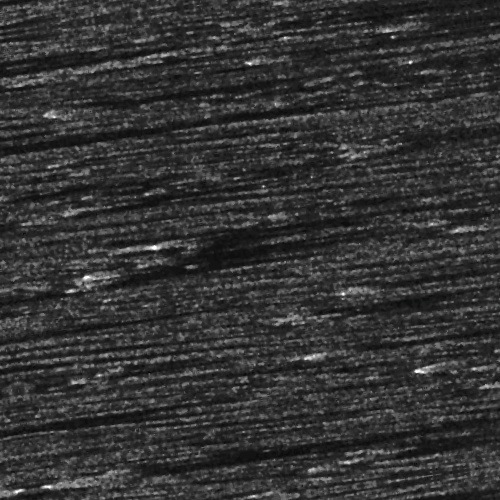object: (11, 444, 126, 459), (109, 225, 202, 236), (260, 468, 343, 479), (27, 45, 110, 54), (276, 298, 359, 307), (38, 179, 131, 186), (47, 345, 100, 356), (433, 45, 500, 52), (439, 253, 500, 260), (324, 458, 377, 465), (264, 318, 327, 323), (254, 59, 317, 64), (53, 257, 94, 262), (427, 383, 458, 388), (0, 486, 30, 491), (101, 245, 122, 250), (487, 441, 500, 448), (492, 205, 500, 216), (296, 359, 307, 364)
shadow: (0, 91, 292, 136), (69, 444, 492, 459), (156, 225, 447, 236), (0, 256, 249, 267), (302, 468, 500, 479), (317, 298, 500, 307), (0, 387, 178, 396), (74, 345, 215, 356), (111, 245, 400, 250), (0, 297, 190, 304), (69, 45, 214, 54), (73, 257, 288, 262), (351, 458, 500, 465), (85, 179, 227, 186), (302, 359, 500, 364), (286, 59, 439, 64), (3, 486, 140, 491), (0, 395, 134, 400), (112, 80, 332, 83), (0, 22, 86, 27), (296, 318, 371, 323), (0, 36, 107, 39), (475, 45, 500, 52), (486, 253, 500, 260)
